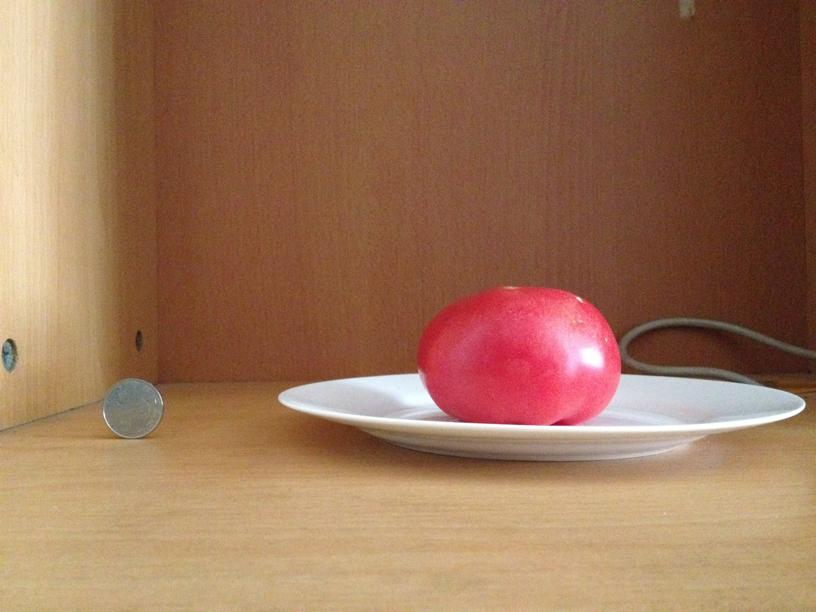coin: (102, 378, 162, 439)
tomato: (418, 286, 623, 423)
